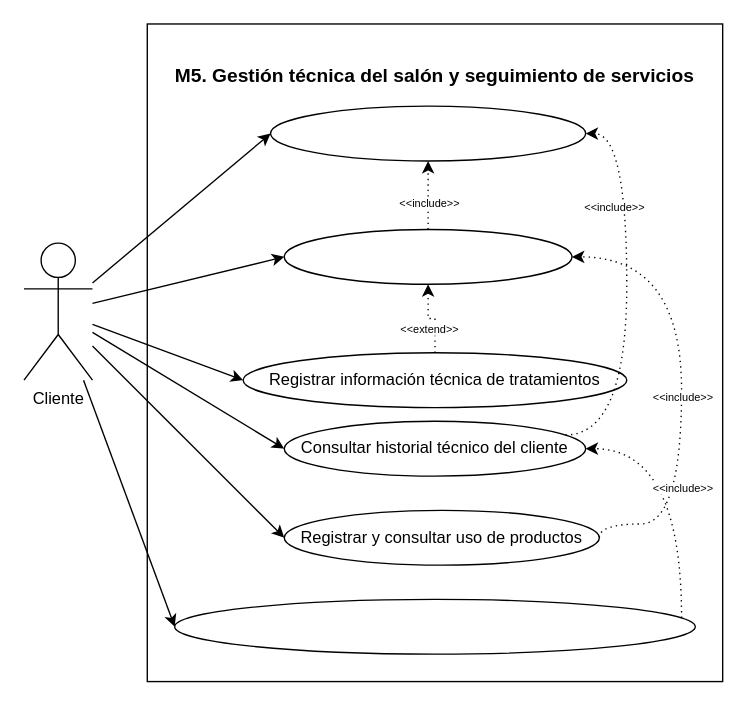
Some shapes in this 747 by 706 pixel diagram are drawn without their labels. The shapes that lost their labels are listed below. From the top down, each one's centre as x and y in pixels, then its label:
At point 427,133: "Gestionar fichas de clientes del salón".
At point 427,256: "Registrar servicios realizados".
At point 434,626: "Obtener sugerencias de productos basadas en tratamientos previos".
